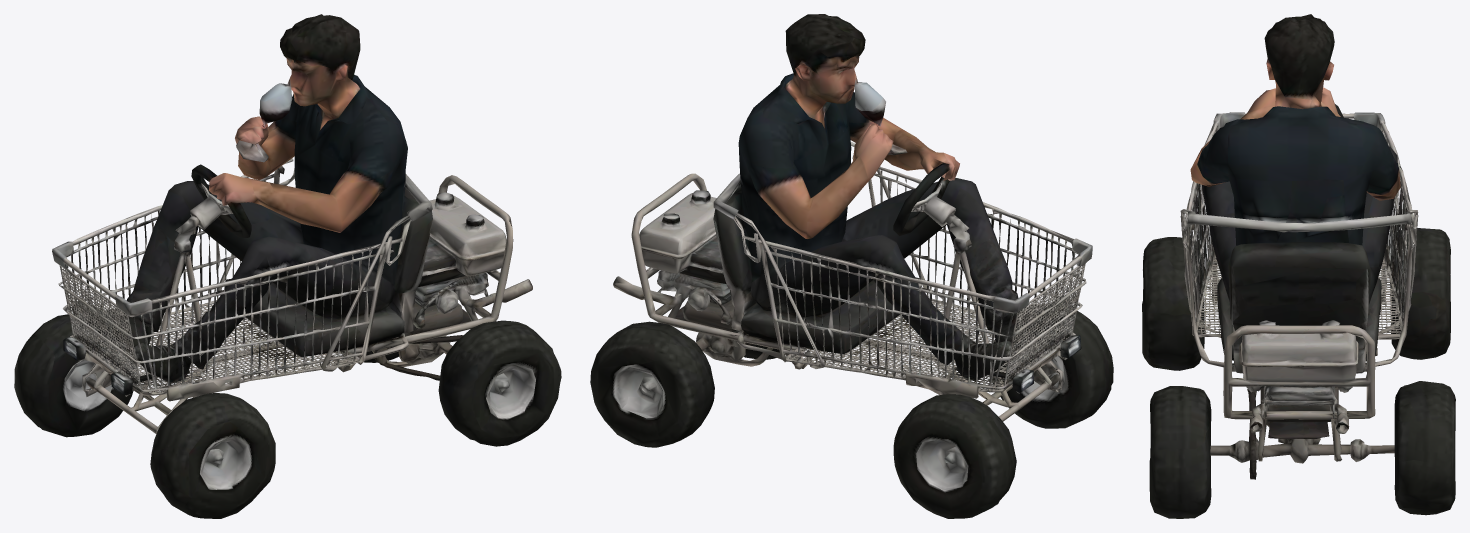
Rendered from cart.glb.
3 renders of one model, left to right at view 1: azimuth 30°, elevation 25°; view 2: azimuth 150°, elevation 25°; view 3: azimuth 270°, elevation 25°, orthographic. The views are drawn at different scales.
Visible parts, largest first — view 1: tripo_node_3f963b93-fca0-44f4-afa4-79b958a74089; view 2: tripo_node_3f963b93-fca0-44f4-afa4-79b958a74089; view 3: tripo_node_3f963b93-fca0-44f4-afa4-79b958a74089.
Part boxes in pixels (x1,y1,x2,y2): tripo_node_3f963b93-fca0-44f4-afa4-79b958a74089: (14, 14, 561, 518); tripo_node_3f963b93-fca0-44f4-afa4-79b958a74089: (590, 14, 1113, 518); tripo_node_3f963b93-fca0-44f4-afa4-79b958a74089: (1142, 14, 1455, 518).
Size of the model in its own units: 0.9783 by 0.8844 by 0.5834.
1 material, 1 textured.
